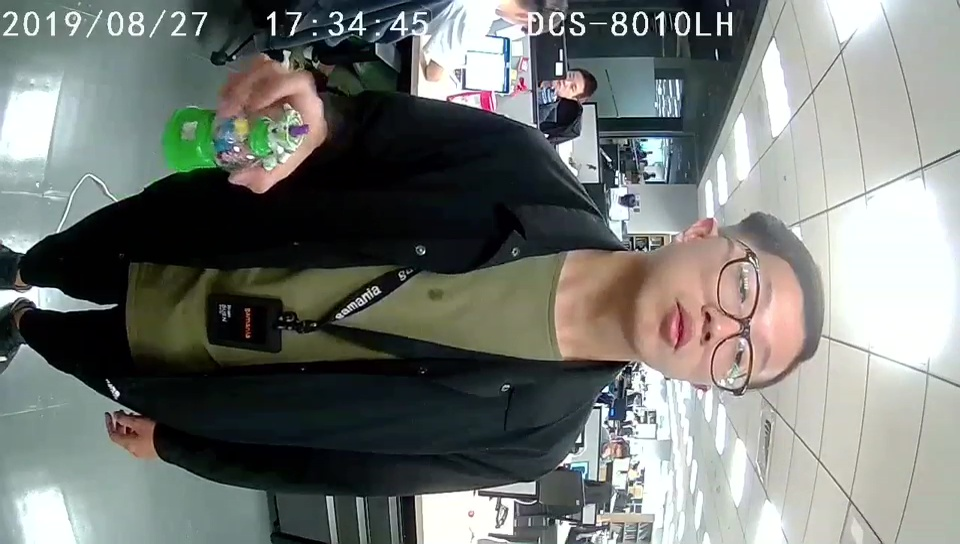buzz: (160, 101, 311, 172)
